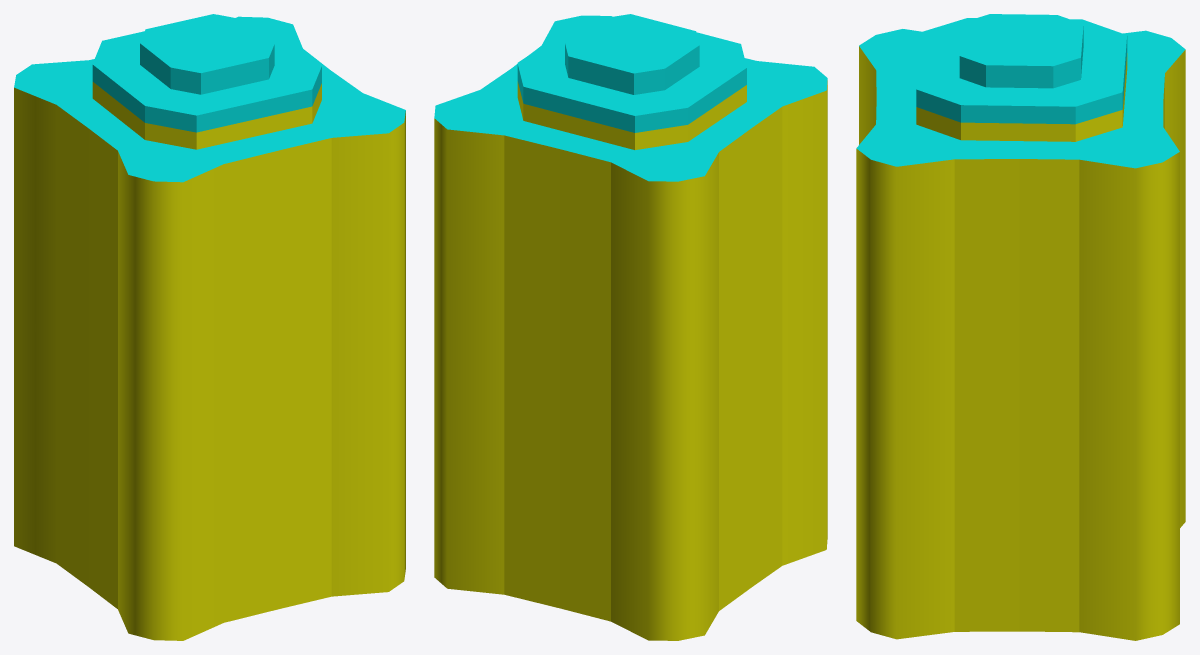
The model's file is Building_Plus_Shape.fbx.
3 views of the same model, side by side, from view 1: azimuth 30°, elevation 25°; view 2: azimuth 150°, elevation 25°; view 3: azimuth 270°, elevation 25° (orthographic). The views are drawn at different scales.
Parts seen in each view (by area): view 1: Plus_Building, Plus_Building_Roof, Plus_Bilding_Roof_2; view 2: Plus_Building, Plus_Building_Roof, Plus_Bilding_Roof_2; view 3: Plus_Building, Plus_Building_Roof, Plus_Bilding_Roof_2.
Boxes of the visible parts, left/top/right/bottom form: Plus_Building: left=14, top=16, right=405, bottom=640; Plus_Building_Roof: left=92, top=14, right=321, bottom=149; Plus_Bilding_Roof_2: left=140, top=14, right=274, bottom=94; Plus_Building: left=434, top=15, right=827, bottom=640; Plus_Building_Roof: left=517, top=19, right=746, bottom=149; Plus_Bilding_Roof_2: left=565, top=14, right=699, bottom=94; Plus_Building: left=856, top=29, right=1185, bottom=640; Plus_Building_Roof: left=916, top=18, right=1127, bottom=141; Plus_Bilding_Roof_2: left=959, top=14, right=1083, bottom=88.
Size of the model in its own units: 1333 by 2360 by 1329.
